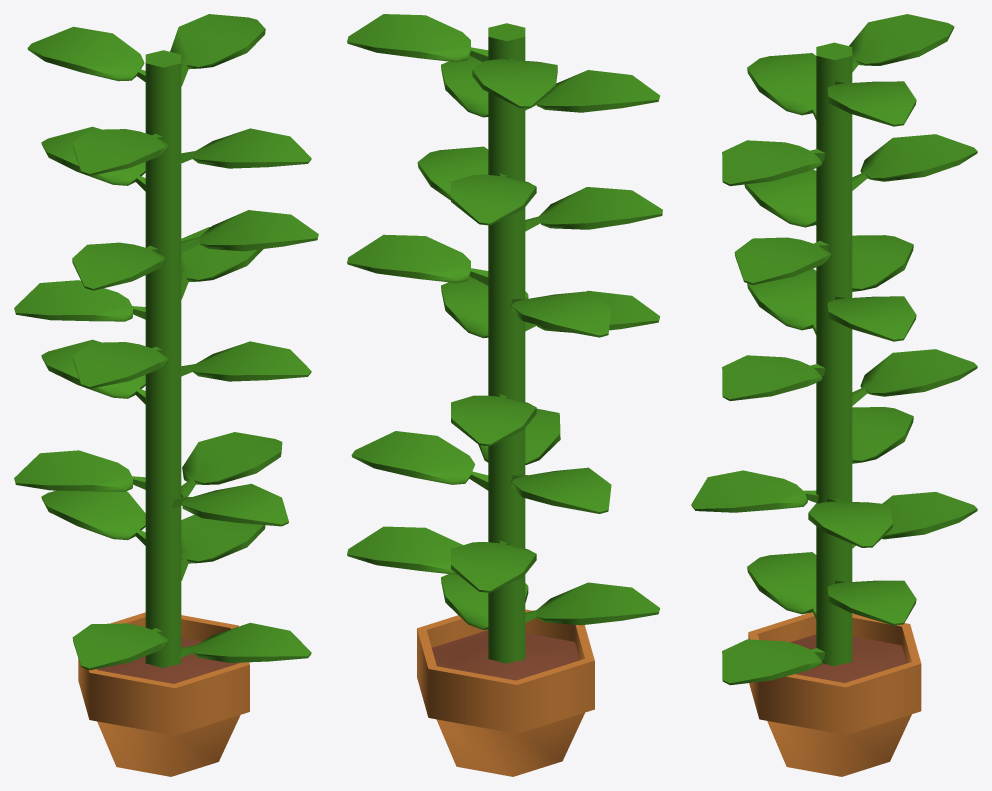
Rendered from topfblume_groß.fbx.
3 renders of one model, left to right at view 1: azimuth 30°, elevation 25°; view 2: azimuth 150°, elevation 25°; view 3: azimuth 270°, elevation 25°, orthographic. The views are drawn at different scales.
Visible parts, largest first — view 1: batt; view 2: batt; view 3: batt.
Part boxes in pixels (left/top/right/bottom): batt: left=14, top=14, right=318, bottom=776; batt: left=347, top=14, right=662, bottom=776; batt: left=691, top=14, right=977, bottom=776.
Bounding box in the file's own units: 81.21 × 210 × 78.03.
